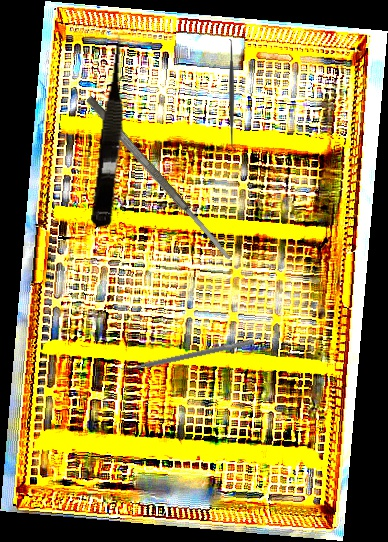Micro Scissor: (90, 30, 135, 230)
Spatula Surgical: (84, 94, 234, 263), (117, 332, 255, 376), (226, 39, 238, 150)
